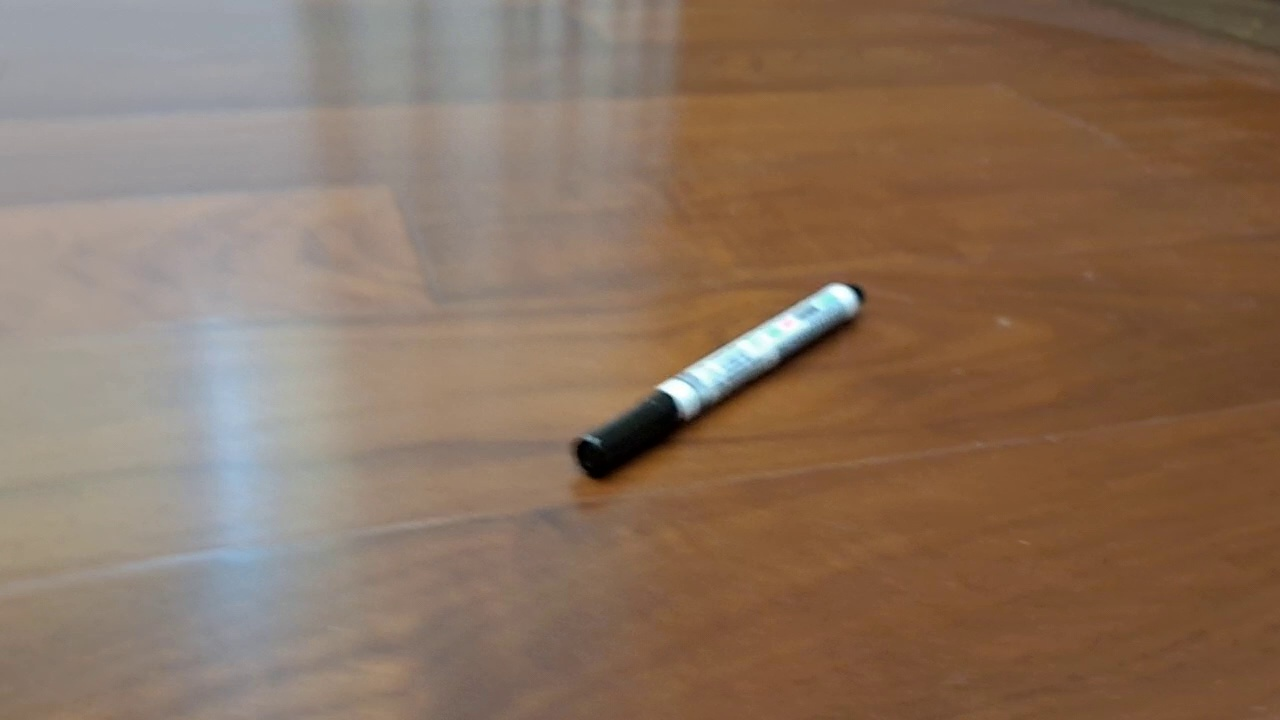pen: (572, 281, 866, 481)
